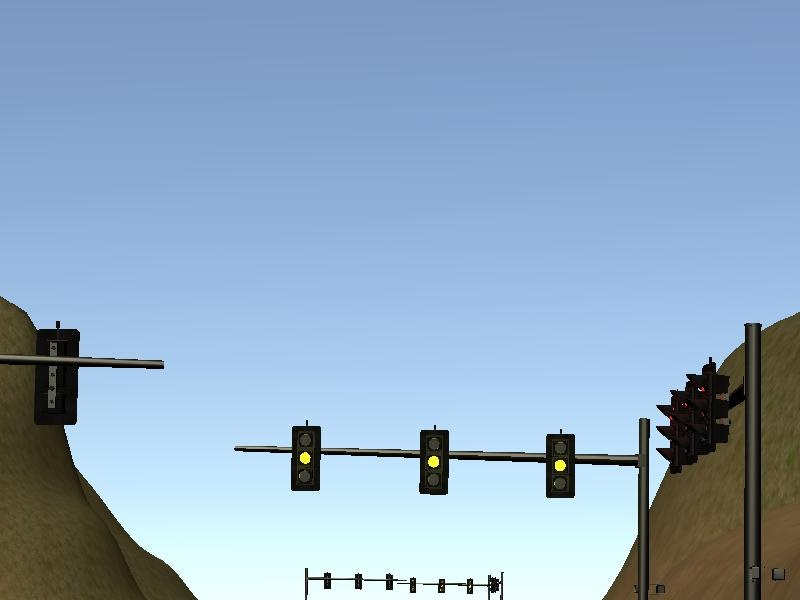yellow: (418, 430, 450, 496), (545, 434, 576, 500), (292, 426, 322, 491)
